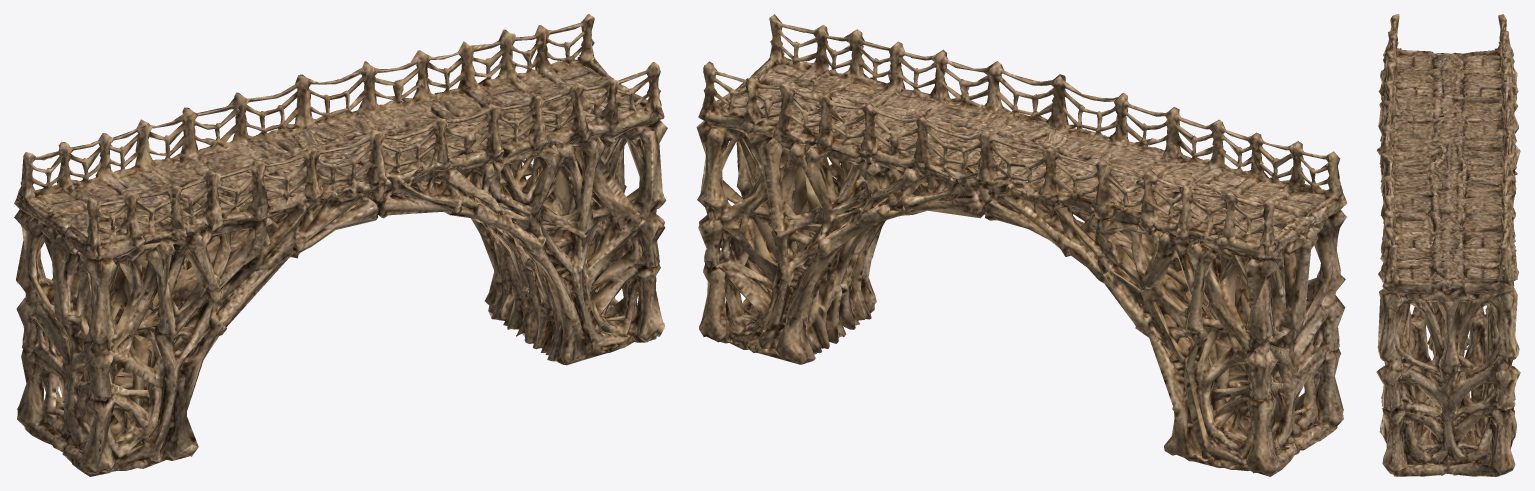
Rendered from bone-bridge-lod1.glb.
The picture shows the model from 3 angles, left to right: view 1: azimuth 30°, elevation 25°; view 2: azimuth 150°, elevation 25°; view 3: azimuth 270°, elevation 25°; orthographic projection. The views are drawn at different scales.
Parts seen in each view (by area): view 1: Mesh_0; view 2: Mesh_0; view 3: Mesh_0.
Part boxes in pixels (x1,y1,x2,y2): Mesh_0: (14,14,667,476); Mesh_0: (696,14,1347,476); Mesh_0: (1376,14,1520,476).
Bounding box in the file's own units: 352860 × 163588 × 90576.
1 material, 1 textured.
